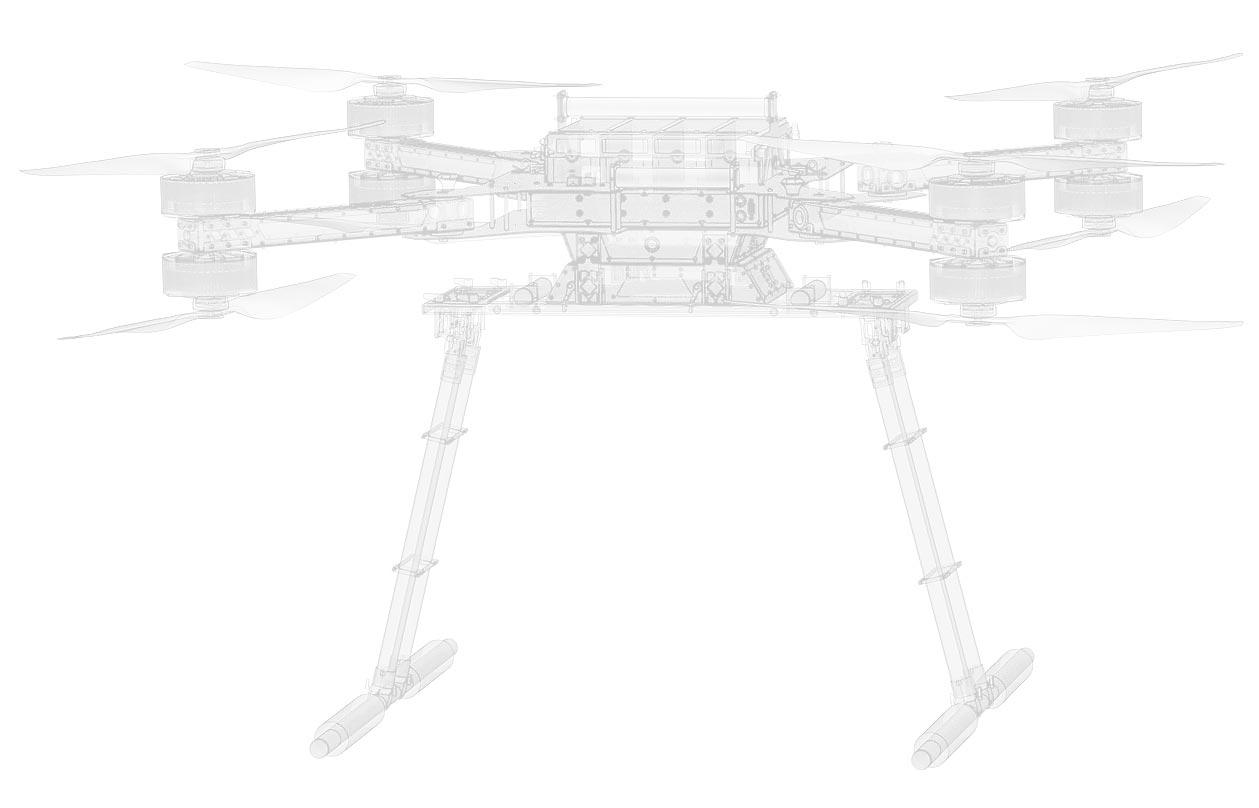drone: (65, 40, 1259, 415)
